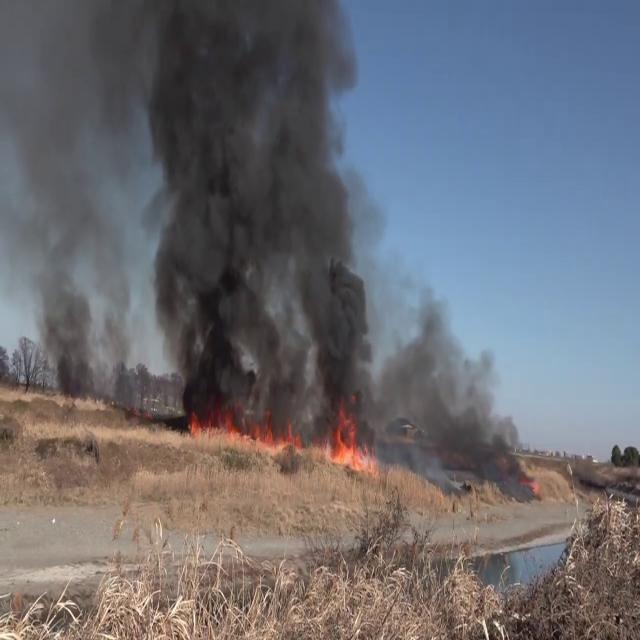Fire: (184, 392, 302, 450), (324, 402, 376, 474)
Smoke: (127, 0, 381, 421), (0, 0, 142, 382), (378, 277, 541, 493)
